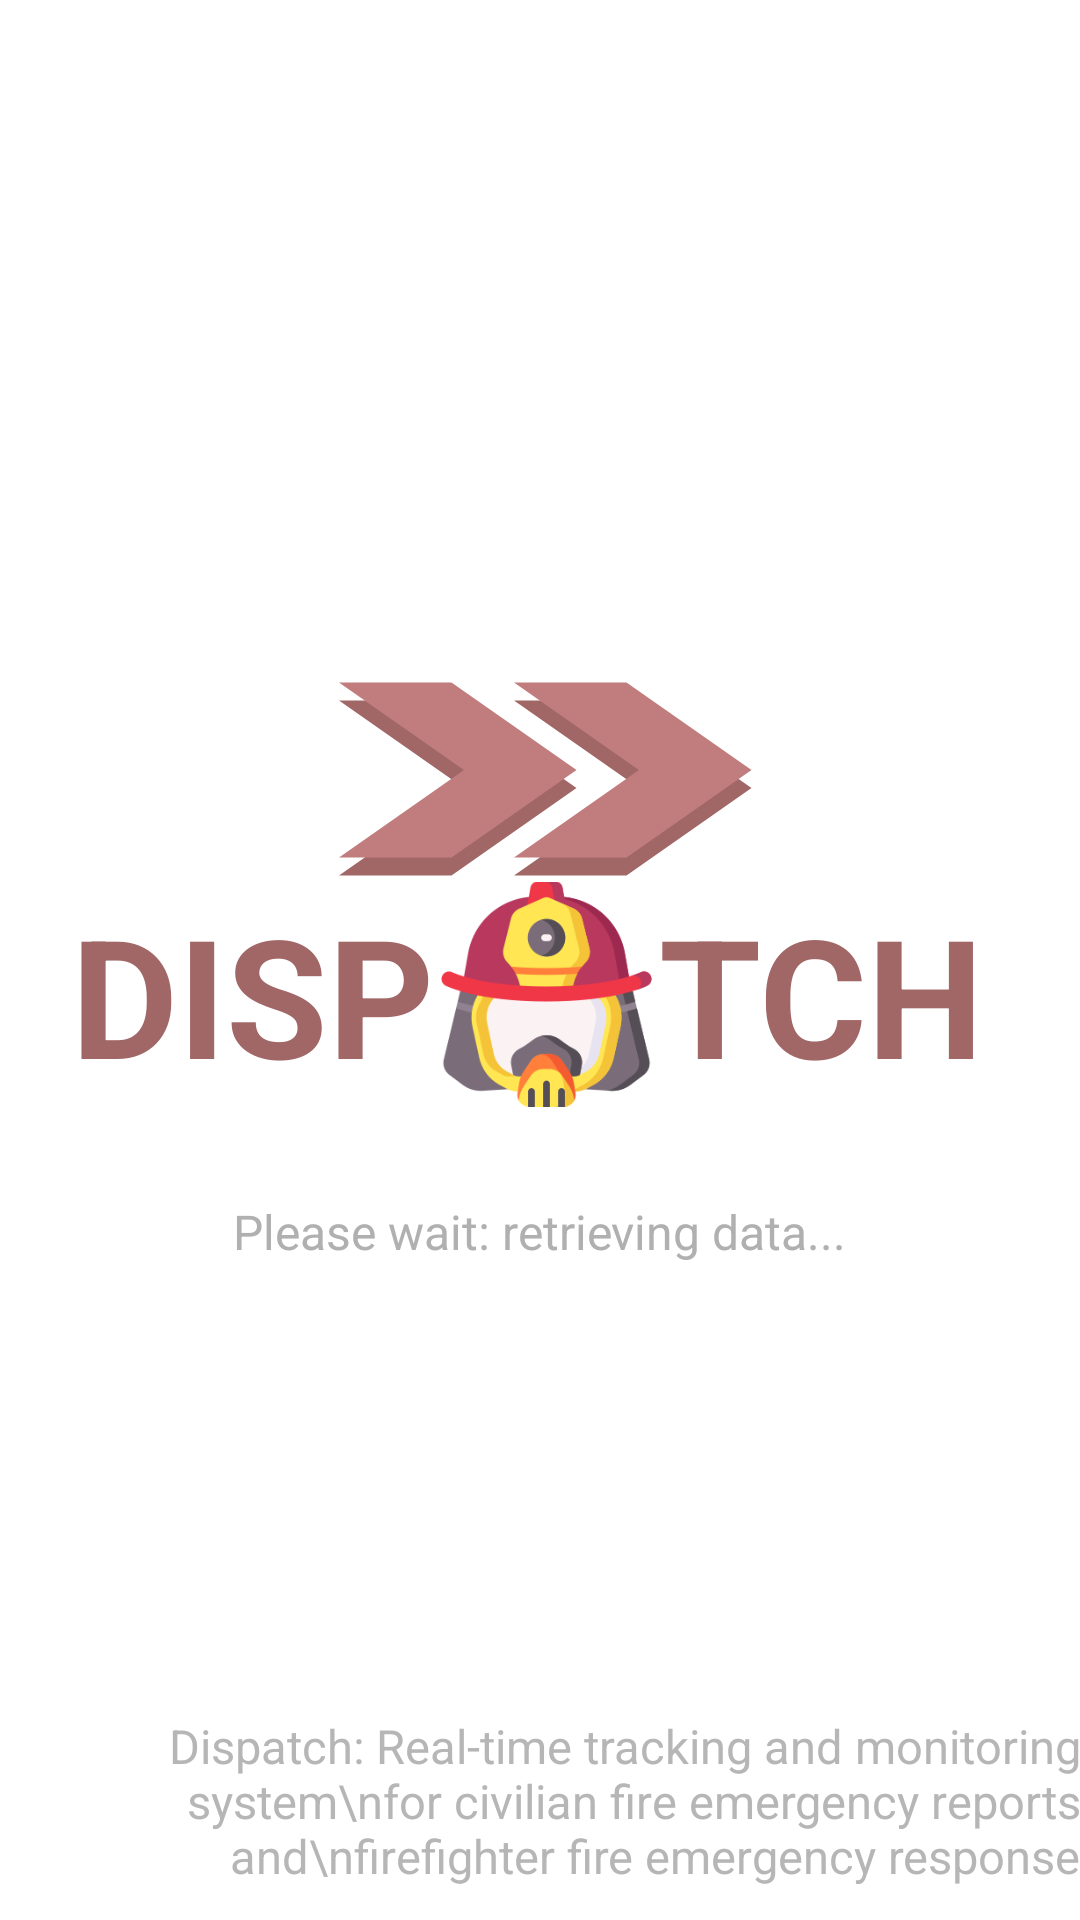

Icon click points for this 1080px x 1920px phone screenshot, format [x,y]:
fighter: [546,994]
